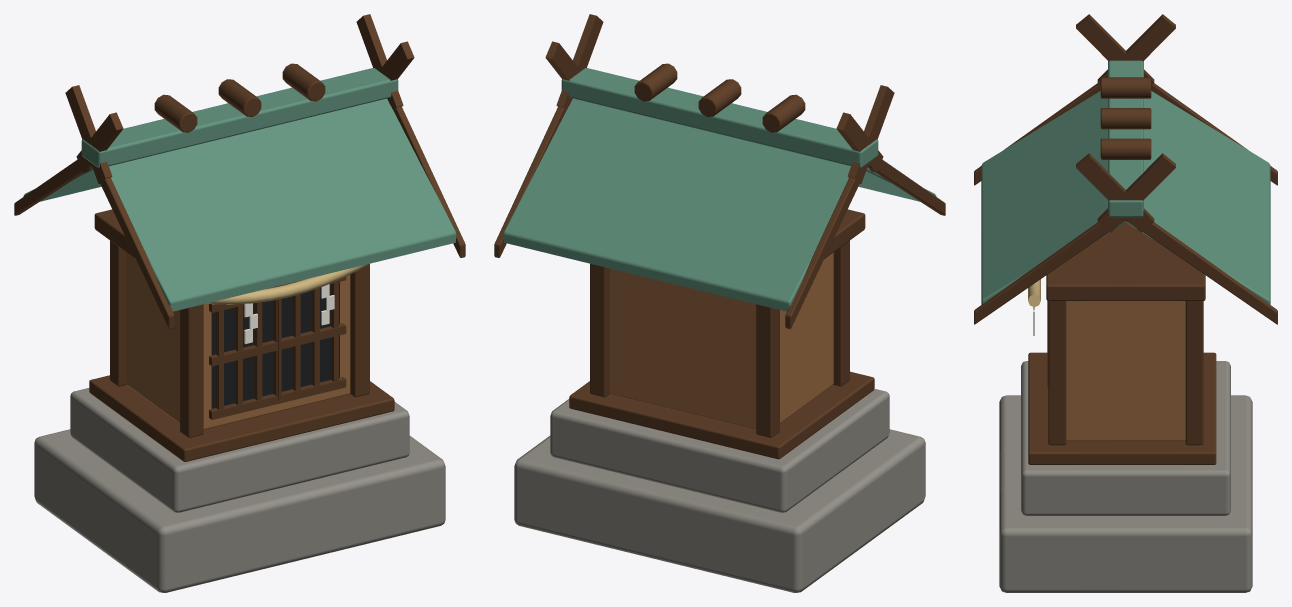
The model's file is hokora_small.fbx.
3 views of the same model, side by side, from view 1: azimuth 30°, elevation 25°; view 2: azimuth 150°, elevation 25°; view 3: azimuth 270°, elevation 25° (orthographic). The views are drawn at different scales.
Parts seen in each view (by area): view 1: hokora_small; view 2: hokora_small; view 3: hokora_small.
Boxes of the visible parts, x1,y1,x2,y2 form: hokora_small: [14, 14, 465, 592]; hokora_small: [494, 14, 945, 592]; hokora_small: [974, 14, 1277, 592].
Bounding box in the file's own units: 0.94 × 1.35 × 0.84.
